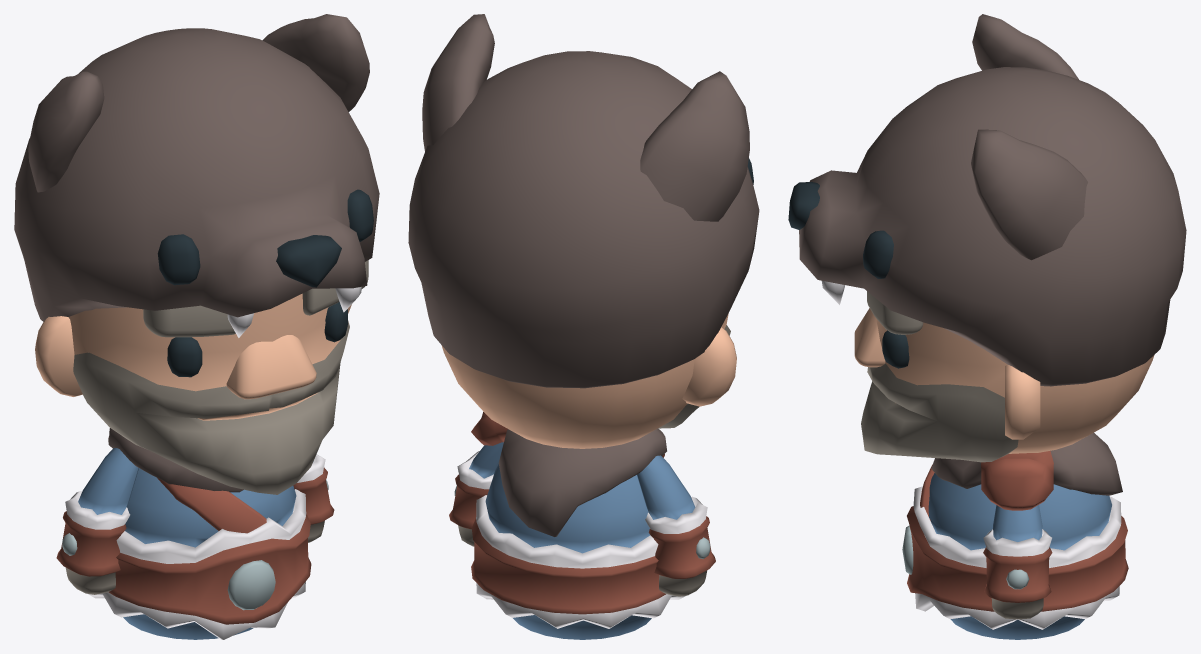
File: kaykit-character-barbarian.glb
3 views of the same model, side by side, from view 1: azimuth 30°, elevation 25°; view 2: azimuth 150°, elevation 25°; view 3: azimuth 270°, elevation 25° (orthographic). The views are drawn at different scales.
Visible parts, largest first — view 1: character_barbarianHat, character_barbarianBody, character_barbarianHead; view 2: character_barbarianHat, character_barbarianHead, character_barbarianBody; view 3: character_barbarianHat, character_barbarianBody, character_barbarianHead.
Part boxes in pixels (bbox=[...]): character_barbarianHat: bbox=[14, 14, 379, 639]; character_barbarianBody: bbox=[56, 467, 334, 624]; character_barbarianHead: bbox=[35, 293, 351, 420]; character_barbarianHat: bbox=[408, 14, 759, 639]; character_barbarianHead: bbox=[441, 313, 736, 448]; character_barbarianBody: bbox=[449, 412, 715, 614]; character_barbarianHat: bbox=[788, 14, 1186, 639]; character_barbarianBody: bbox=[902, 451, 1128, 611]; character_barbarianHead: bbox=[854, 308, 1154, 453].
Bounding box in the file's own units: 1.22 × 2.05 × 1.38.
5 materials, 5 textured.
